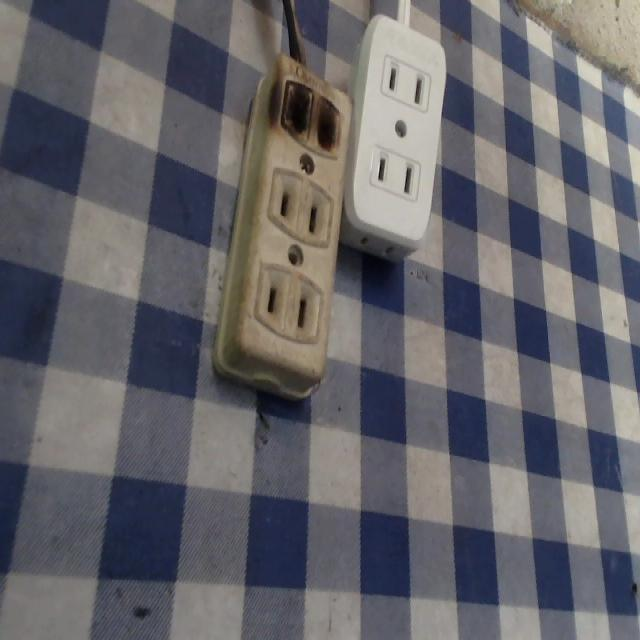-: (268, 68, 347, 155)
